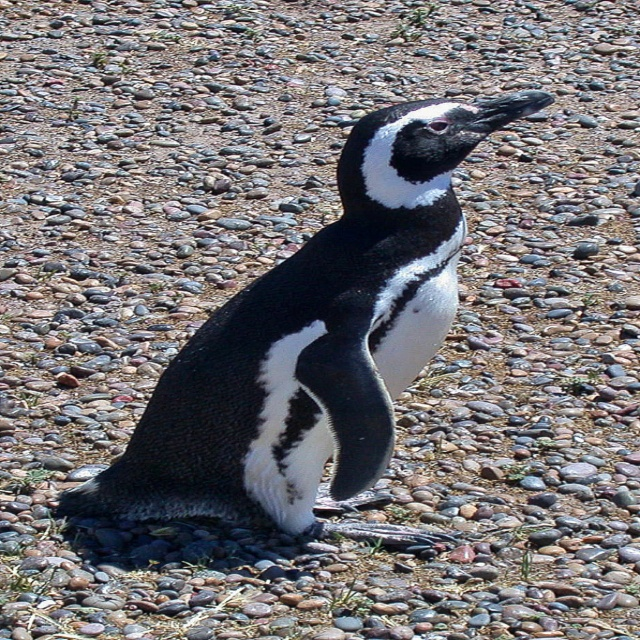Penguin: (39, 123, 539, 519)
